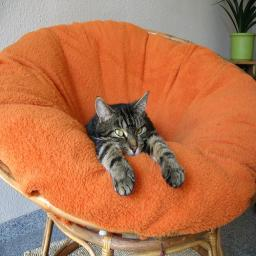catnose: (130, 144, 138, 153)
